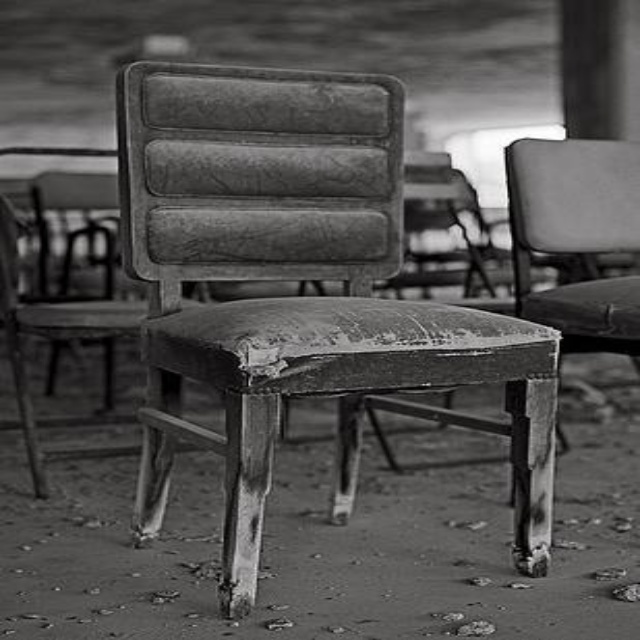obstacle: (118, 62, 557, 616)
